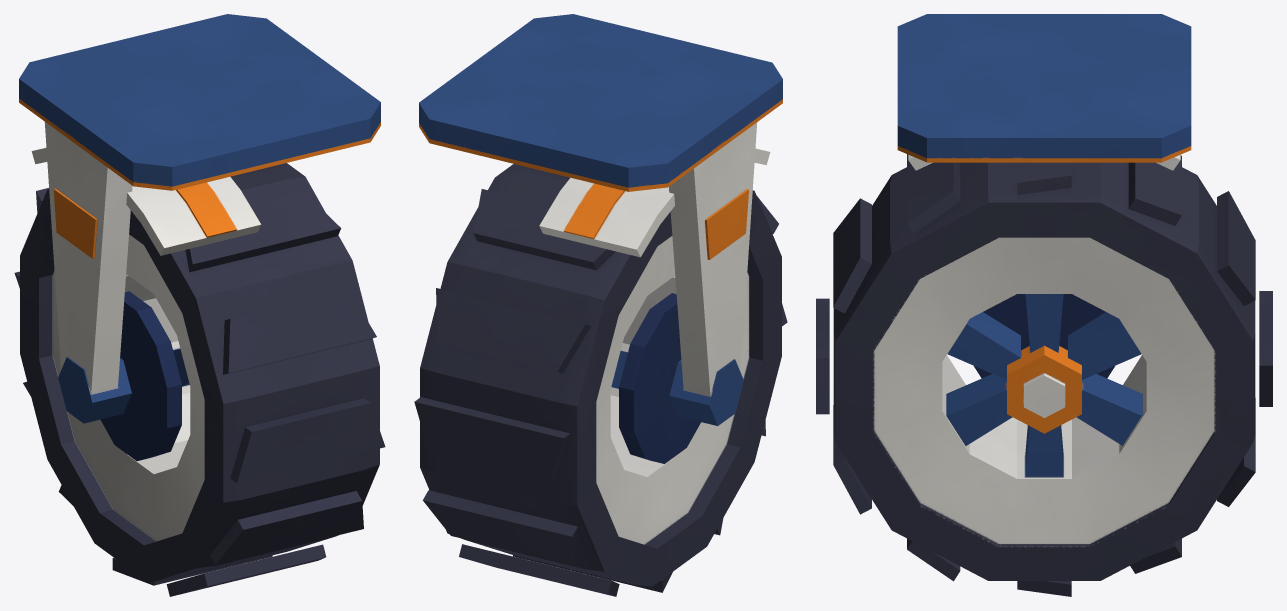
The model's file is R4M_Wheel.glb.
3 views of the same model, side by side, from view 1: azimuth 30°, elevation 25°; view 2: azimuth 150°, elevation 25°; view 3: azimuth 270°, elevation 25° (orthographic). The views are drawn at different scales.
Visible parts, largest first — view 1: R4M_Wheel_Rotor, R4M_Wheel_Mount; view 2: R4M_Wheel_Rotor, R4M_Wheel_Mount; view 3: R4M_Wheel_Rotor, R4M_Wheel_Mount.
Part boxes in pixels (box(x1,y1,x2,y2)): R4M_Wheel_Rotor: box(14, 163, 385, 596); R4M_Wheel_Mount: box(19, 14, 380, 423); R4M_Wheel_Rotor: box(414, 164, 787, 596); R4M_Wheel_Mount: box(419, 14, 782, 425); R4M_Wheel_Rotor: box(816, 154, 1272, 596); R4M_Wheel_Mount: box(897, 14, 1191, 170).
Size of the model in its own units: 0.504 by 0.909 by 0.778.
1 material, 1 textured.
